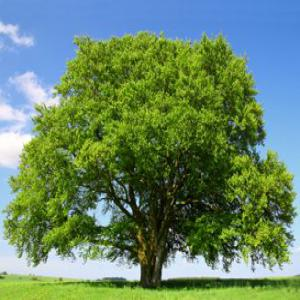Tree: (5, 28, 294, 286)
